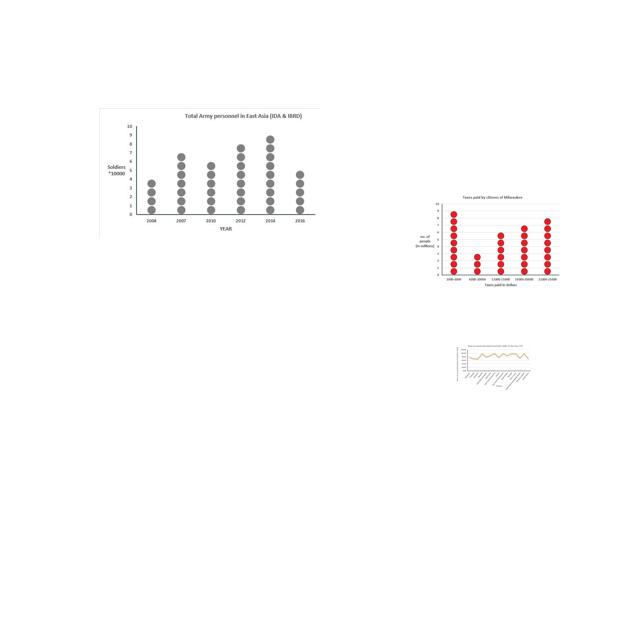Graph: (99, 108, 320, 237), (411, 192, 562, 291), (455, 344, 534, 391)
